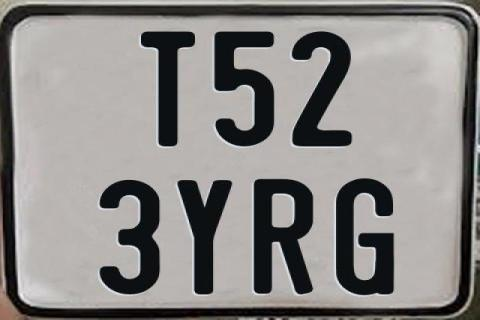0: (99, 177, 161, 297), (214, 30, 278, 146), (292, 30, 354, 146)
G: (336, 176, 395, 293)
R: (252, 180, 316, 296)
T: (141, 30, 195, 148)
Y: (175, 178, 234, 296)
